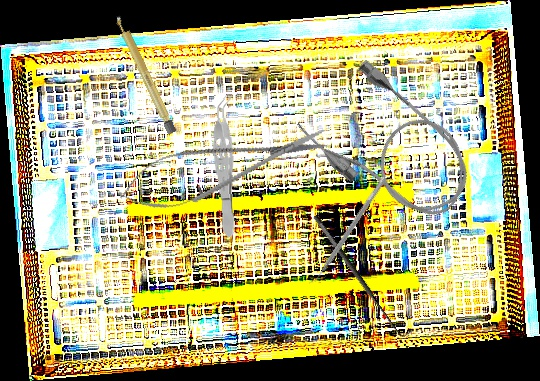Cannula: (290, 52, 489, 242)
Hook Surgical: (311, 207, 414, 343)
Micro Scissor: (112, 110, 335, 224)
Scalpel Handle: (113, 13, 178, 135)
Spatula Surgical: (306, 172, 388, 289)
Tissue Forceps: (210, 93, 241, 238)
